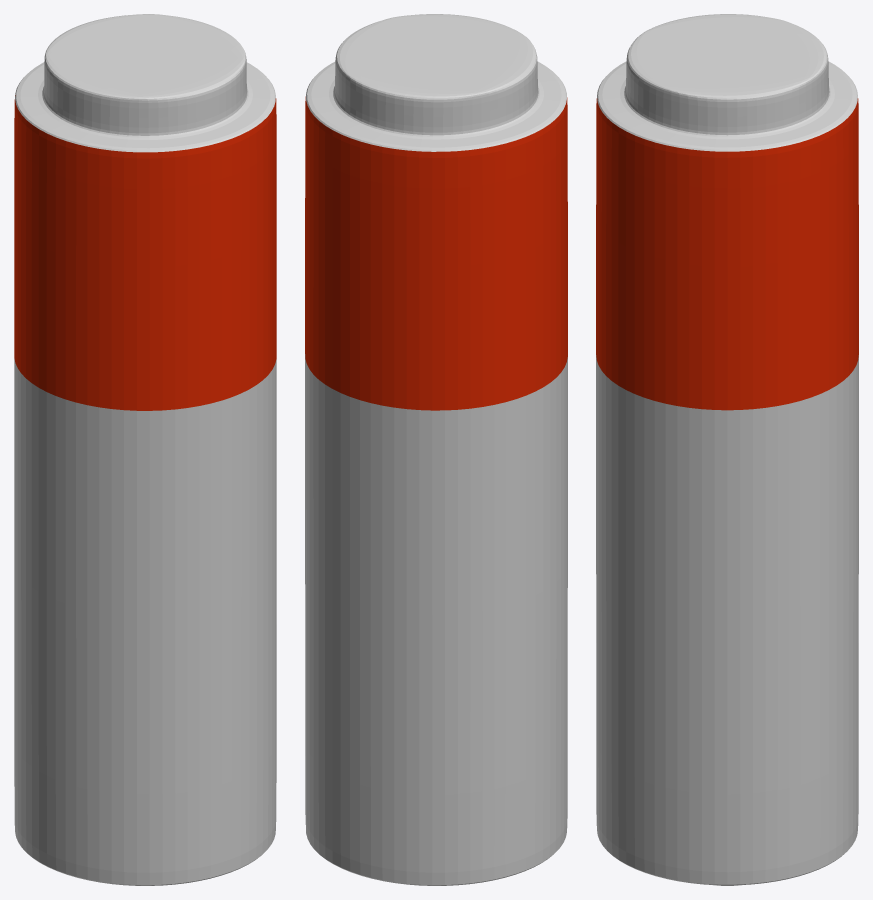
The model's file is battery.fbx.
The picture shows the model from 3 angles, left to right: view 1: azimuth 30°, elevation 25°; view 2: azimuth 150°, elevation 25°; view 3: azimuth 270°, elevation 25°; orthographic projection.
Visible parts, largest first — view 1: Cylinder; view 2: Cylinder; view 3: Cylinder.
Part boxes in pixels (x1,y1,x2,y2): Cylinder: (14,14,276,885); Cylinder: (305,14,567,885); Cylinder: (596,14,858,885).
Size of the model in its own units: 199 by 659 by 199.
